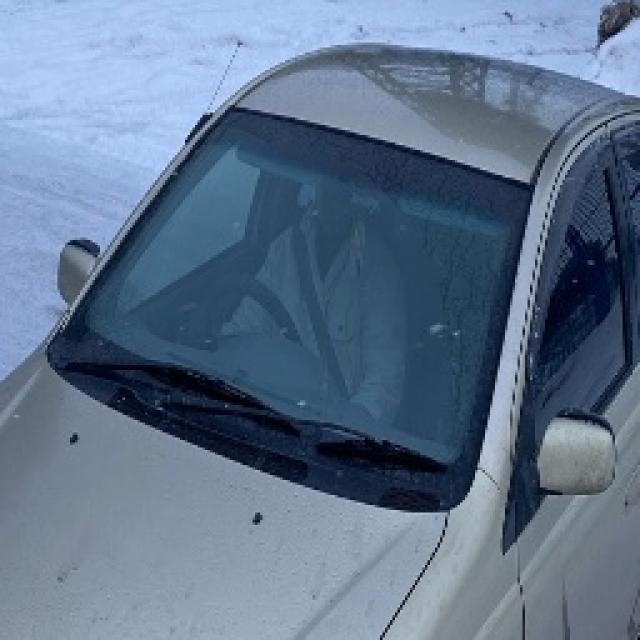windshield: (38, 99, 557, 516)
